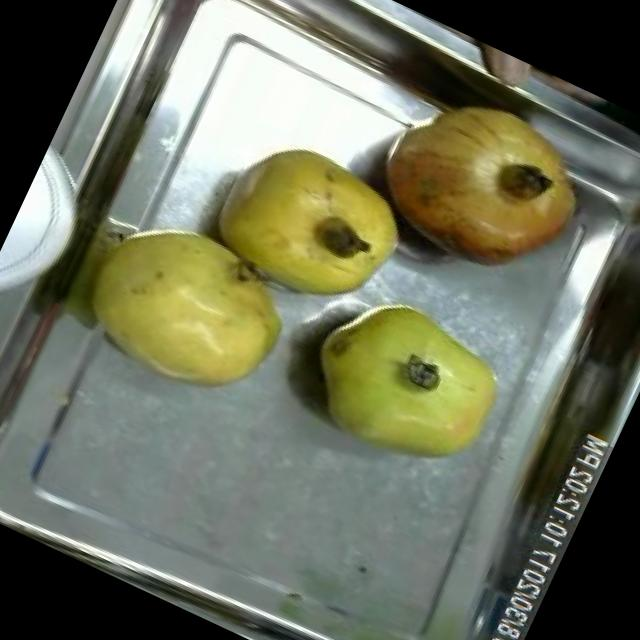fruit: (50, 183, 324, 430), (349, 64, 614, 307), (277, 270, 530, 500), (187, 117, 426, 336)
